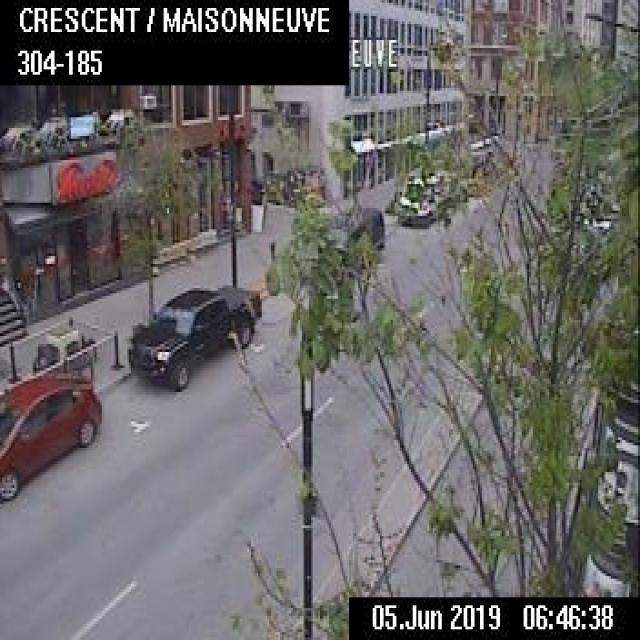vehicle: (127, 283, 260, 389), (0, 371, 102, 498), (396, 164, 448, 224), (330, 203, 384, 255), (467, 147, 494, 173)
